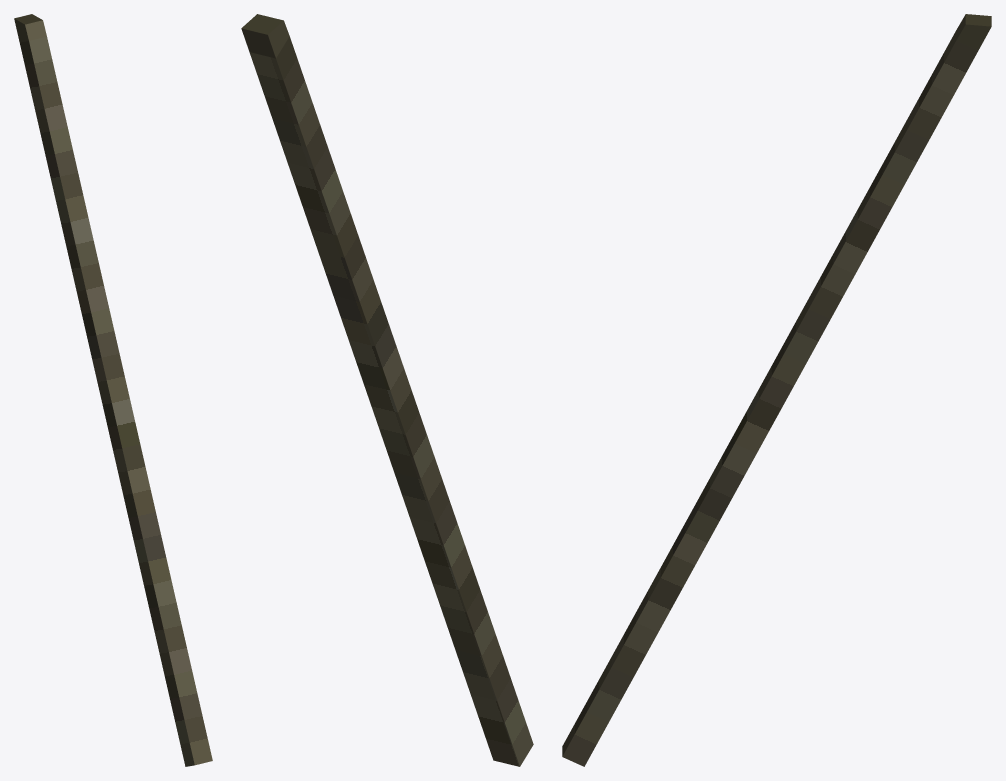
Rendered from rope_2tall.obj.
3 renders of one model, left to right at view 1: azimuth 30°, elevation 25°; view 2: azimuth 150°, elevation 25°; view 3: azimuth 270°, elevation 25°, orthographic. The views are drawn at different scales.
Parts seen in each view (by area): view 1: cube; view 2: cube; view 3: cube.
Part boxes in pixels (x1,y1,x2,y2): cube: [14, 14, 212, 766]; cube: [241, 14, 533, 766]; cube: [562, 14, 991, 766].
Bounding box in the file's own units: 0.0625 × 2.07 × 1.08.
